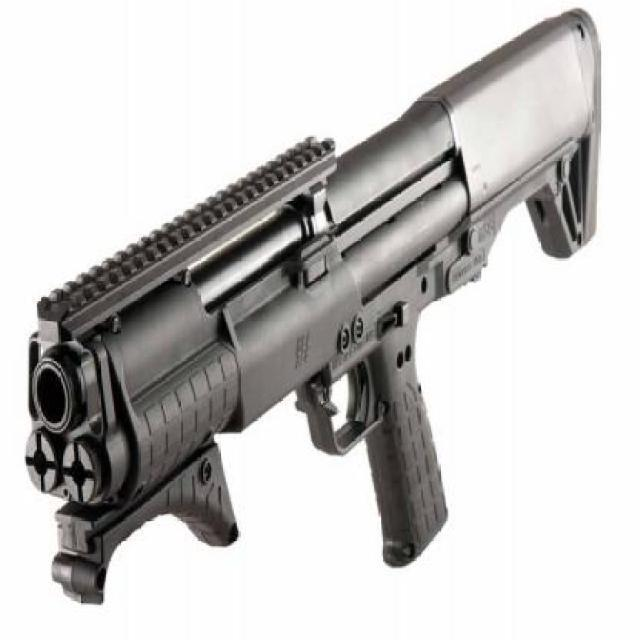weapon: (22, 6, 602, 604)
